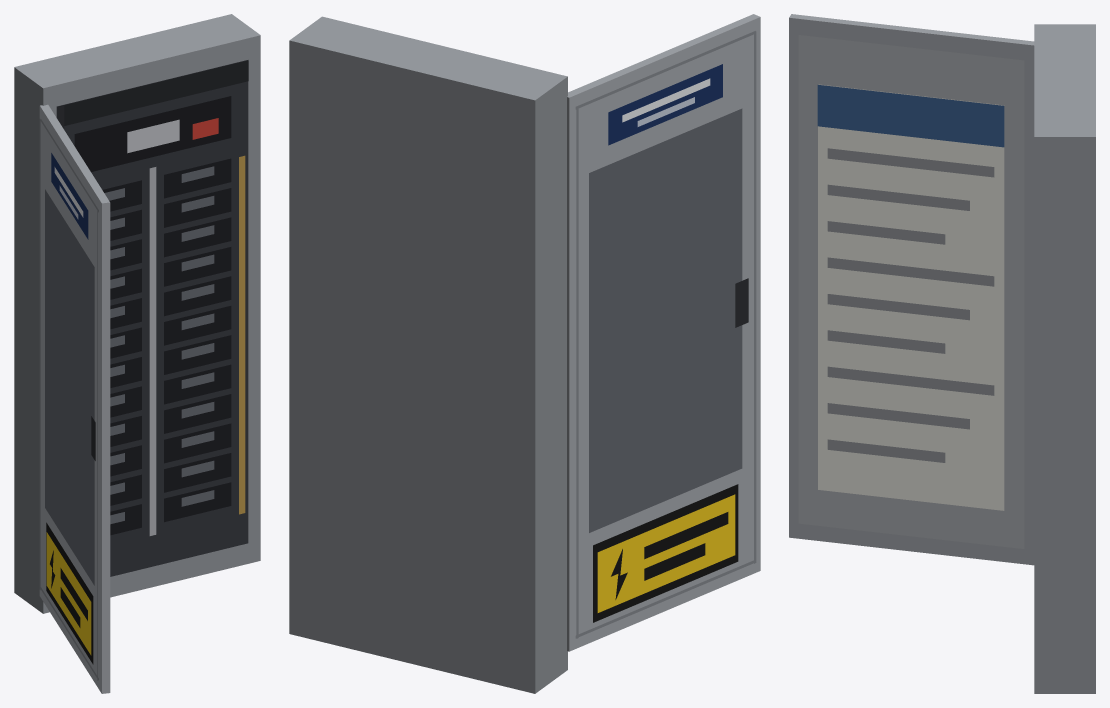
The model's file is breaker_panel_open.glb.
The picture shows the model from 3 angles, left to right: view 1: azimuth 30°, elevation 25°; view 2: azimuth 150°, elevation 25°; view 3: azimuth 270°, elevation 25°; orthographic projection. The views are drawn at different scales.
Parts seen in each view (by area): view 1: body, door; view 2: body, door; view 3: door, body.
Boxes of the visible parts, x1,y1,x2,y2 form: body: (14,14,260,613); door: (39,104,110,693); body: (289,16,567,693); door: (567,14,760,651); door: (789,14,1034,565); body: (1034,24,1095,693).
Size of the model in its own units: 0.6538 by 1.2 by 0.5991.
